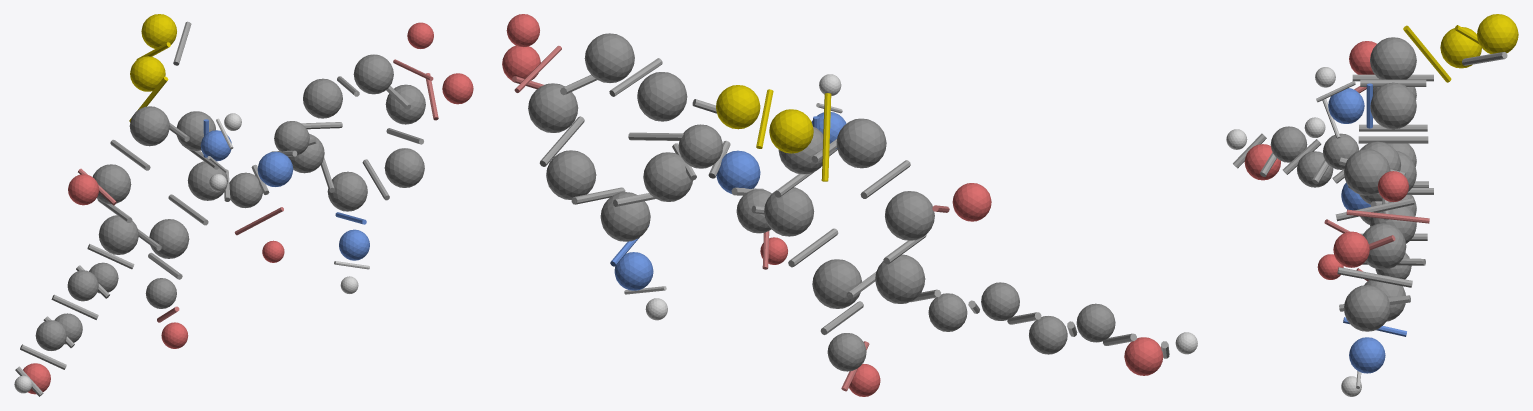
Rendered from molecule.glb.
3 views of the same model, side by side, from view 1: azimuth 30°, elevation 25°; view 2: azimuth 150°, elevation 25°; view 3: azimuth 270°, elevation 25° (orthographic). The views are drawn at different scales.
Parts seen in each view (by area): view 1: world; view 2: world; view 3: world.
Part boxes in pixels (left/top/right/bottom): world: left=14, top=14, right=473, bottom=396; world: left=502, top=14, right=1197, bottom=396; world: left=1226, top=14, right=1518, bottom=396.
Size of the model in its own units: 3 by 1.59 by 1.29.
